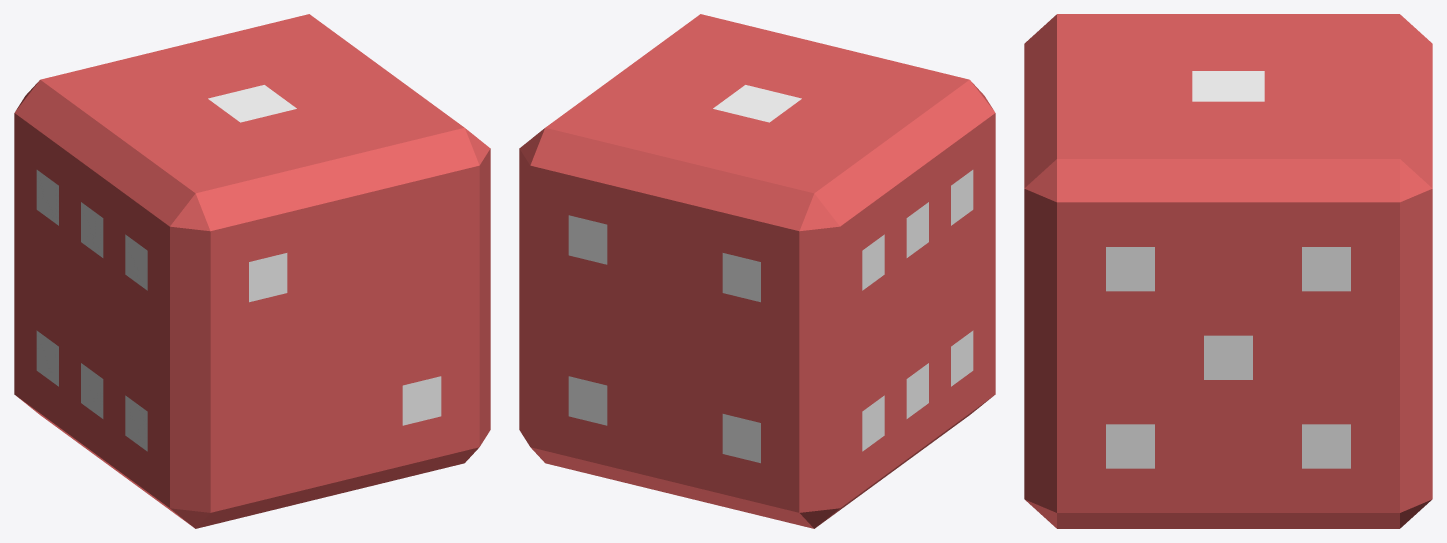
The model's file is dice.fbx.
3 renders of one model, left to right at view 1: azimuth 30°, elevation 25°; view 2: azimuth 150°, elevation 25°; view 3: azimuth 270°, elevation 25°, orthographic. The views are drawn at different scales.
Parts seen in each view (by area): view 1: Cube.001; view 2: Cube.001; view 3: Cube.001.
Boxes of the visible parts, bbox=[...] form: Cube.001: bbox=[14, 14, 490, 528]; Cube.001: bbox=[519, 14, 995, 528]; Cube.001: bbox=[1024, 14, 1432, 528].
Size of the model in its own units: 28.28 by 28.28 by 28.28.
